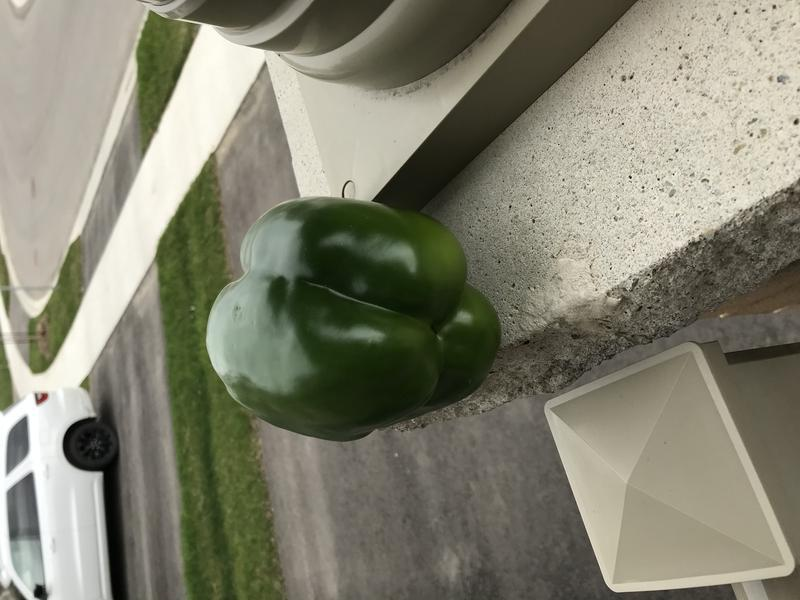green_pepper: (193, 192, 522, 455)
